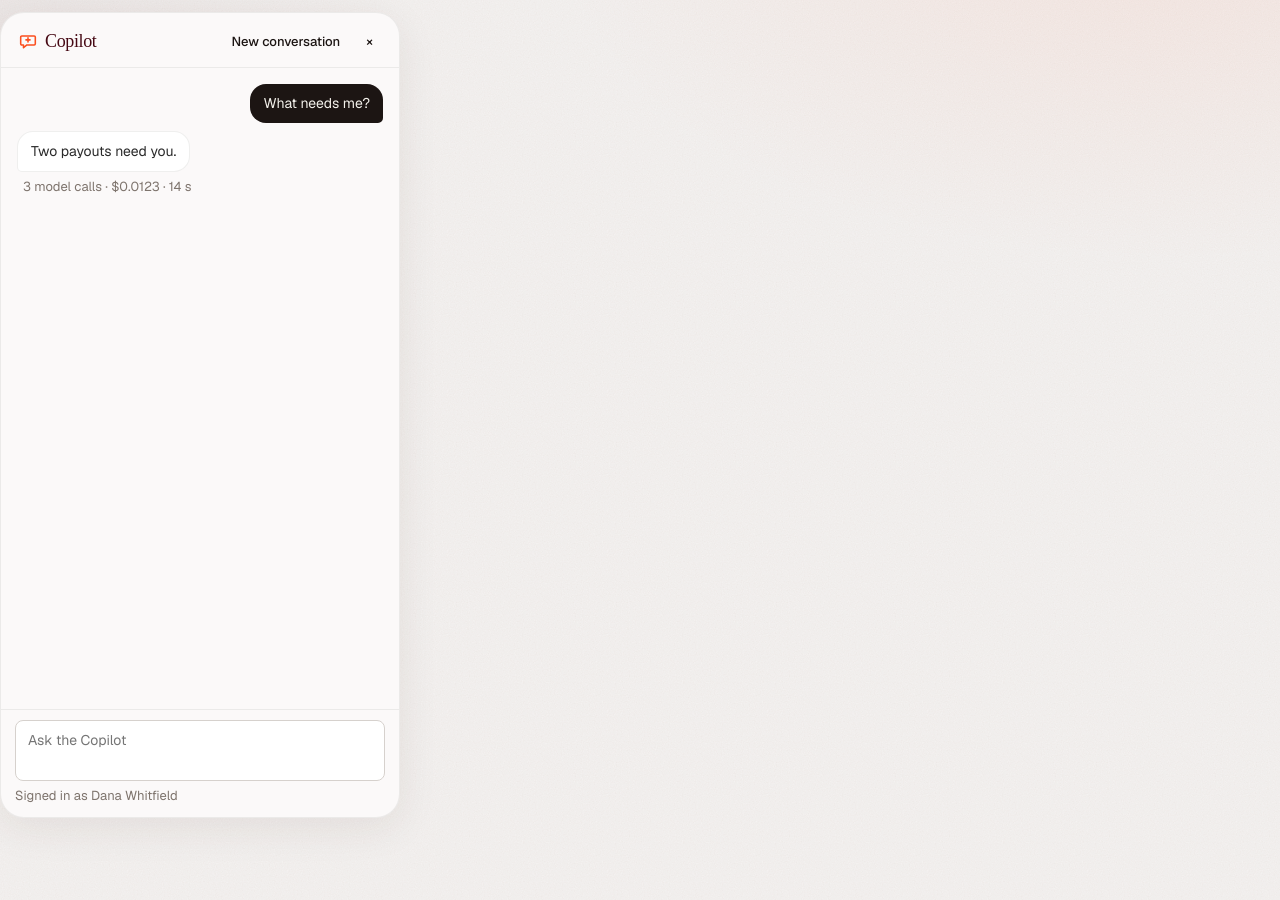
Scenario: the Copilot sidebar › reads the conversation again when sending fails, since the message may have gone through (a 504)
The width and height of the screenshot is (1280, 900).
Type "hello" into the text box labelled "Ask the Copilot" at (200, 751), box [15,720,385,781]
Then press Enter
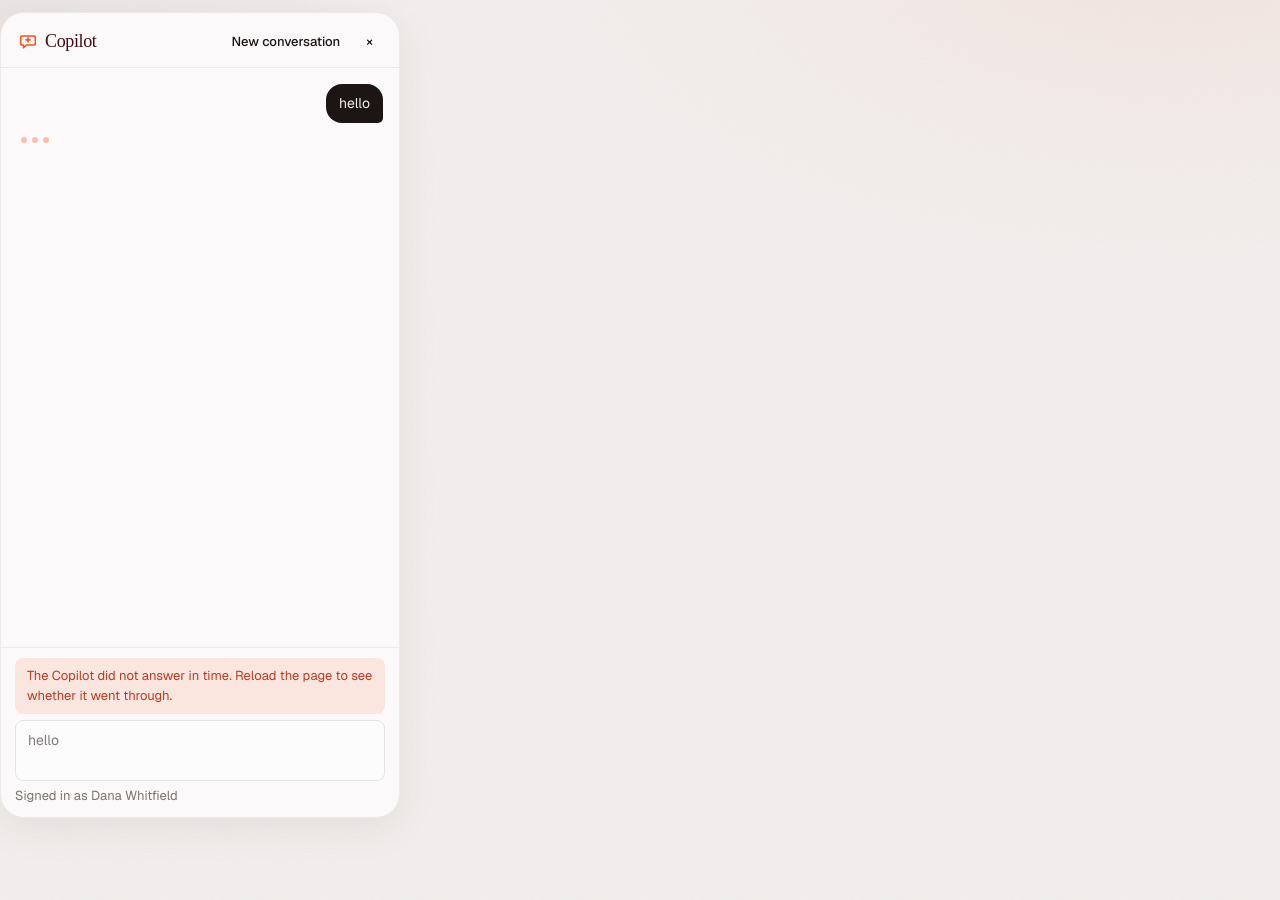
Check: the text "did not answer in time" is shown, box [27,667,372,704]
Check: the message named "The Copilot is working" is shown, box [21,137,49,143]
Check: the text box named "Ask the Copilot" is disabled, box [15,720,385,781]
